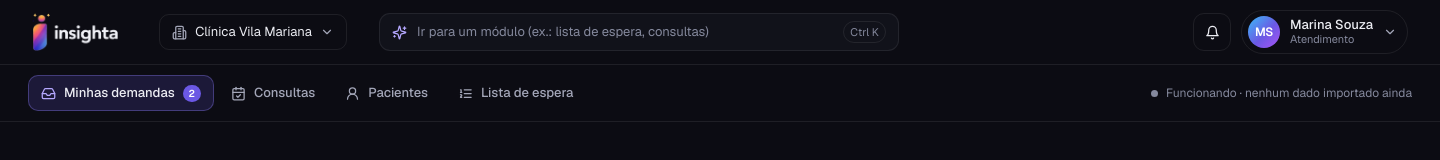
Test: TopBar › coordenador não vê a pergunta à IA (visão geral), só o atalho para as telas do setor
The width and height of the screenshot is (1440, 160).
Check: the link "Minhas demandas 2" is shown, box [28, 75, 214, 111]
Step 1. Type "espera" into the dropdown named "Pergunte ao Insighta" → (625, 32), box [417, 22, 833, 42]
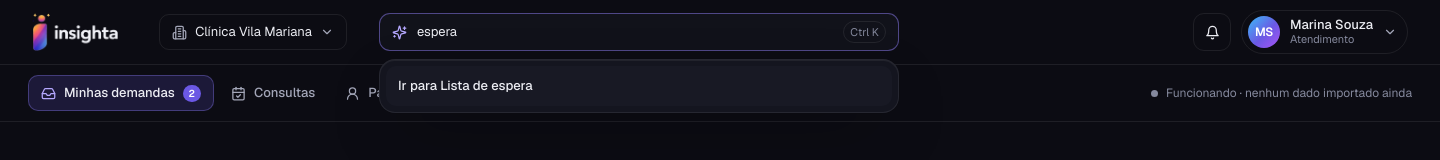
Check: the option "Ir para Lista de espera" is shown, box [386, 66, 892, 106]
